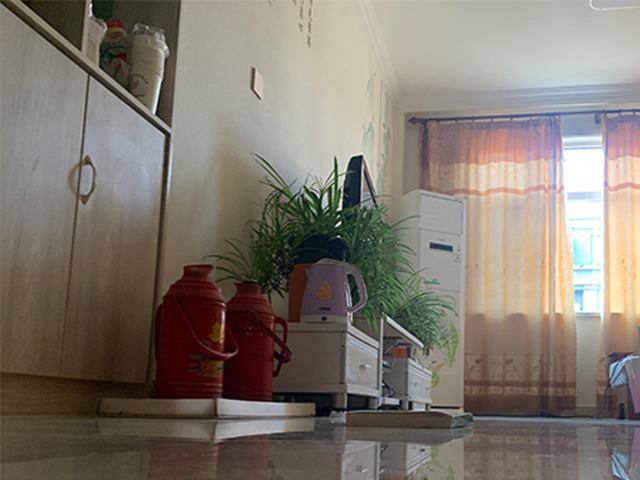book: (344, 406, 477, 430)
cabinet: (1, 1, 181, 417), (271, 309, 433, 417)
curtain: (418, 113, 577, 414), (596, 111, 640, 420)
wire: (577, 362, 620, 420)
